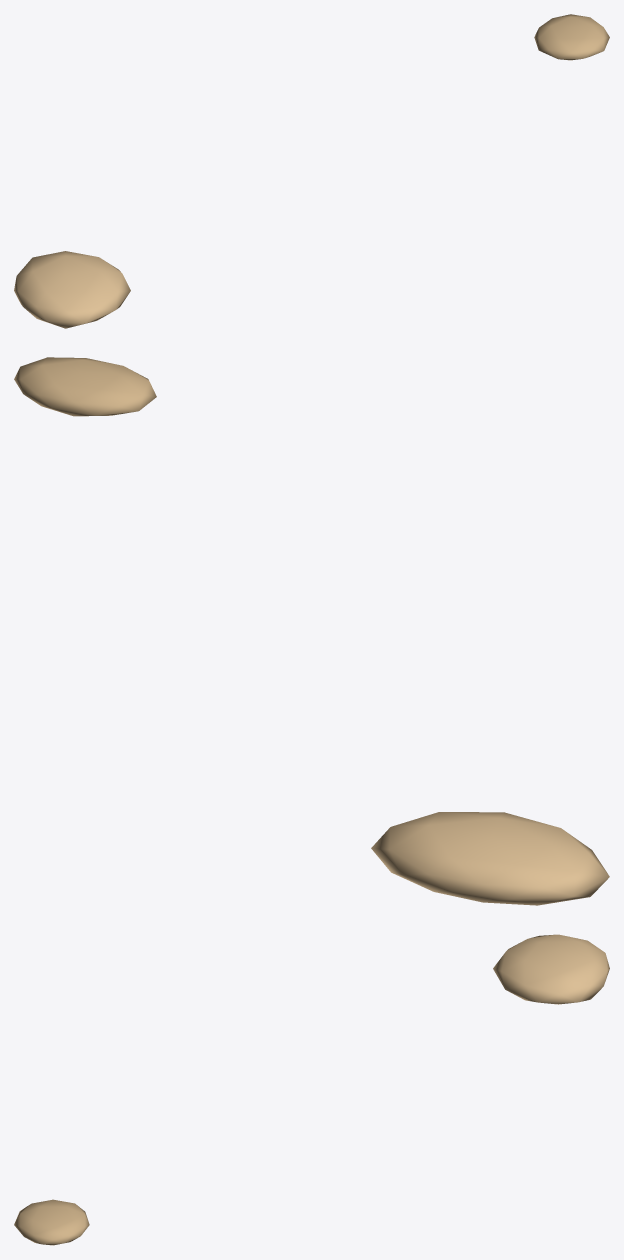
Rendered from TILE_Open.glb.
The picture shows the model from 3 angles, top to bottom: view 1: azimuth 90°, elevation 25°; view 2: azimuth 150°, elevation 25°; view 3: azimuth 270°, elevation 25°; orthographic projection. The views are drawn at different scales.
Visible parts, largest first — view 1: TILE_Open; view 2: TILE_Open; view 3: TILE_Open.
Part boxes in pixels (box(x1,y1,x2,y2)): TILE_Open: box(14, 14, 609, 328); TILE_Open: box(14, 357, 609, 905); TILE_Open: box(14, 934, 609, 1245).
Size of the model in its own units: 4.46 by 0.1584 by 3.66.
